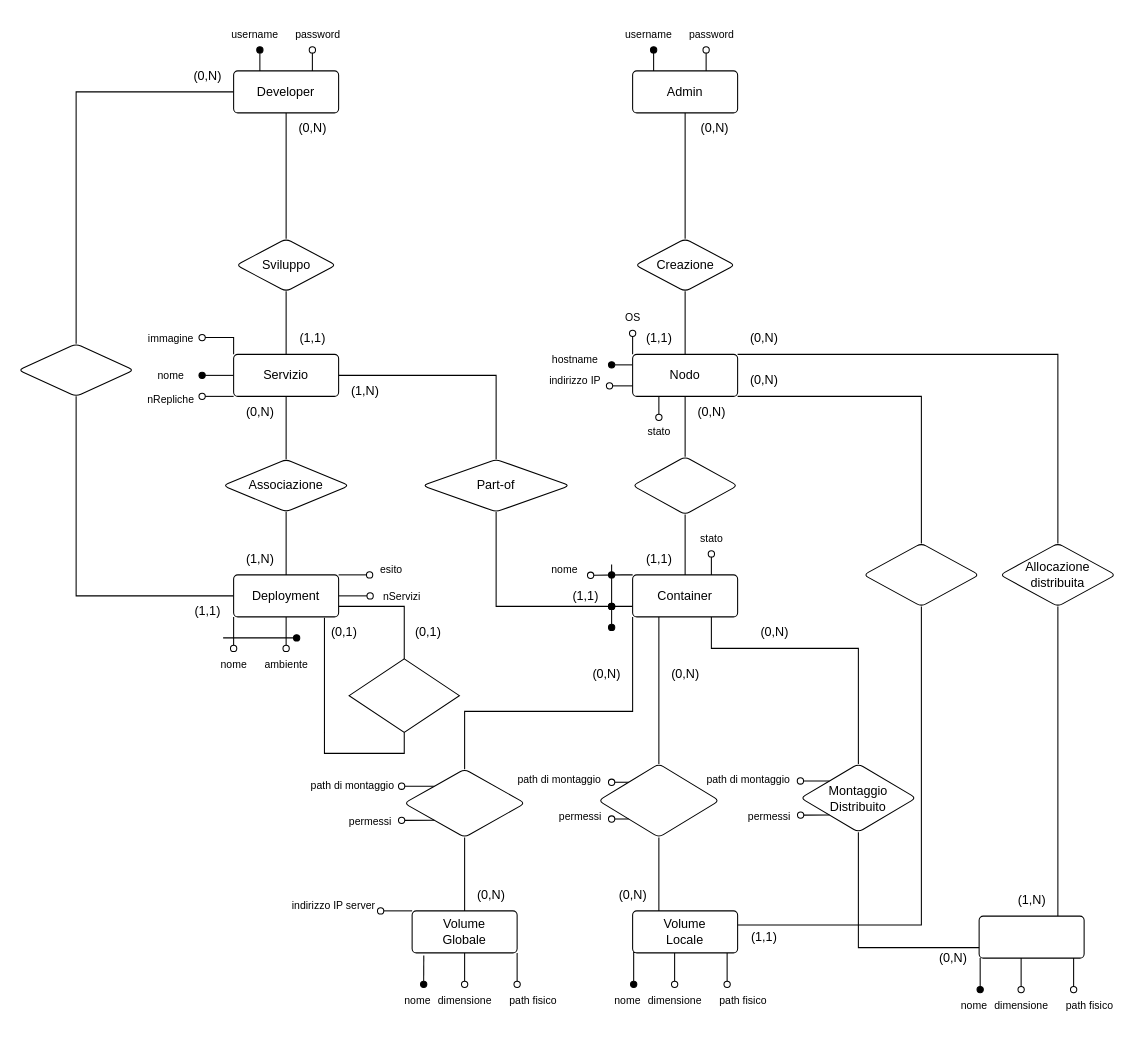
Image size: 1145x1038. Some labels were removed from this diagram. Each missing label, with the centre of its shape:
"Allocazione locale" belongs at point (921, 574).
"Montaggio Globale" belongs at point (464, 802).
"Montaggio Locale" belongs at point (658, 800).
"Ospitazione" belongs at point (685, 485).
"Produzione" belongs at point (75, 369).
"Versione precedente" belongs at point (403, 695).
"Volume Distribuito" belongs at point (1031, 936).
